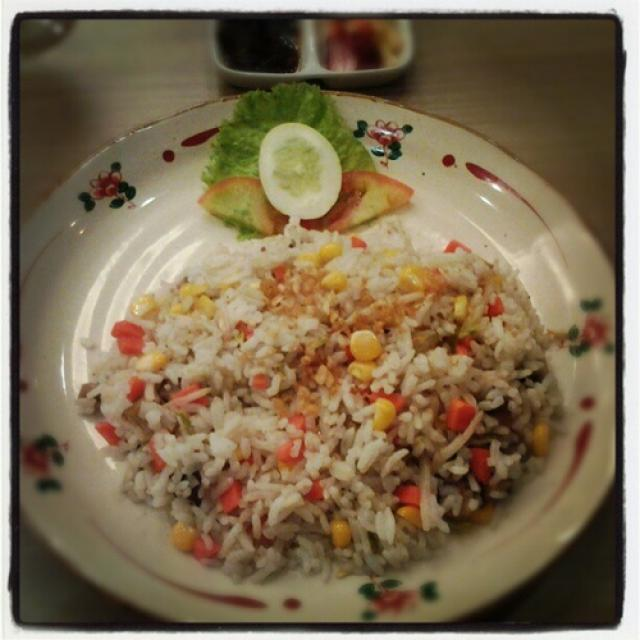米饭主食: (41, 79, 595, 599)
